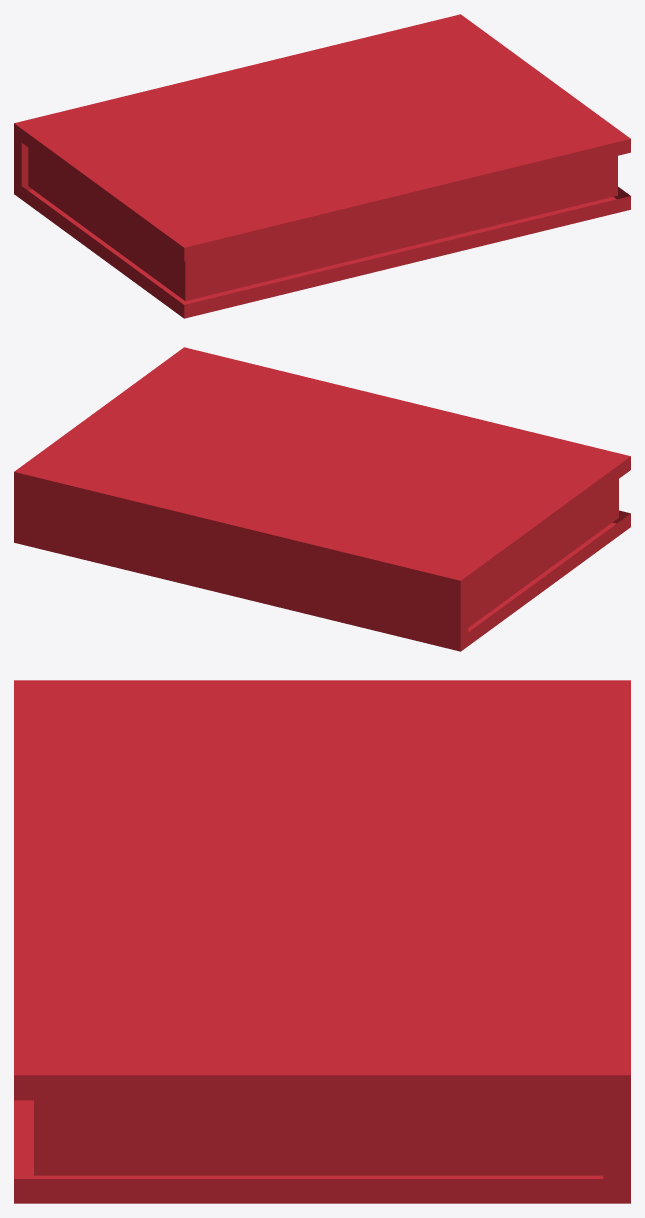
File: Libro.fbx
The picture shows the model from 3 angles, top to bottom: view 1: azimuth 30°, elevation 25°; view 2: azimuth 150°, elevation 25°; view 3: azimuth 270°, elevation 25°; orthographic projection. The views are drawn at different scales.
Parts seen in each view (by area): view 1: Cube; view 2: Cube; view 3: Cube.
Boxes of the visible parts, left/top/right/bottom form: Cube: left=14, top=14, right=630, bottom=318; Cube: left=14, top=347, right=630, bottom=651; Cube: left=14, top=680, right=630, bottom=1203.
Bounding box in the file's own units: 428 × 64.86 × 282.
